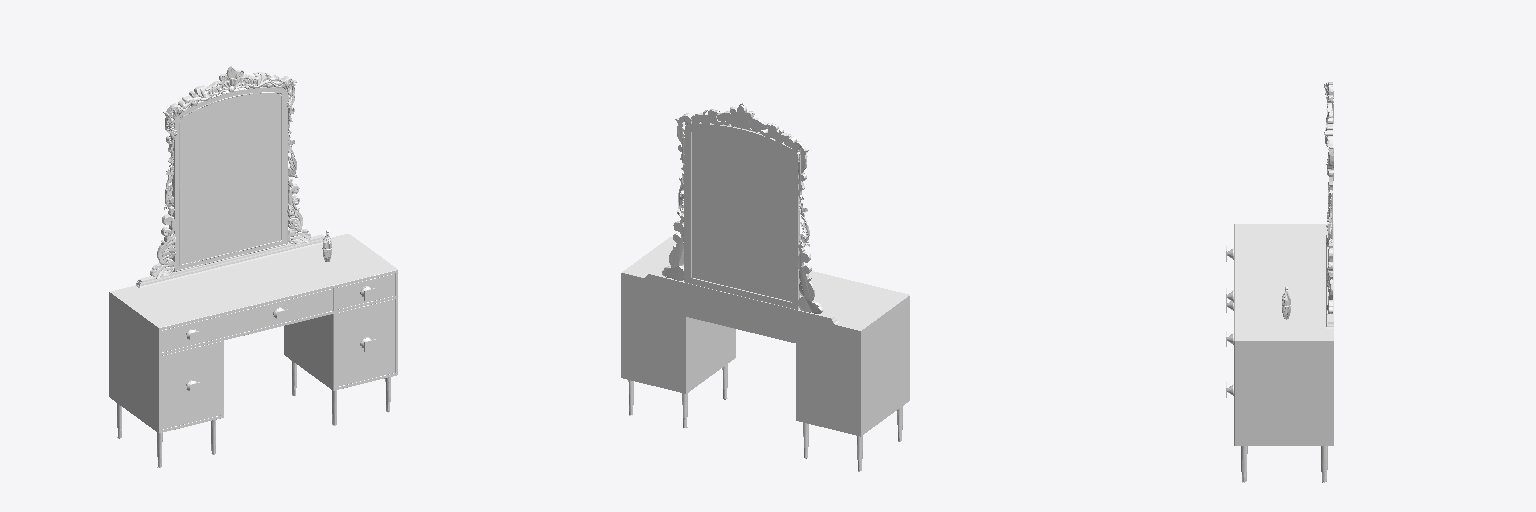
3 renders of one model, left to right at view 1: azimuth 30°, elevation 25°; view 2: azimuth 150°, elevation 25°; view 3: azimuth 270°, elevation 25°, orthographic.
Parts seen in each view (by area): view 1: solid_005, solid_003, solid_002, glass_001; view 2: solid_005, solid_003, solid_002, glass_001; view 3: solid_005, solid_002.
Part boxes in pixels (left/top/right/bottom): solid_005: left=109, top=234, right=397, bottom=432; solid_003: left=180, top=93, right=280, bottom=264; solid_002: left=117, top=66, right=390, bottom=468; glass_001: left=117, top=288, right=390, bottom=457; solid_005: left=621, top=237, right=909, bottom=436; solid_003: left=692, top=131, right=791, bottom=301; solid_002: left=629, top=103, right=901, bottom=471; glass_001: left=628, top=364, right=902, bottom=460; solid_005: left=1234, top=224, right=1333, bottom=445; solid_002: left=1227, top=82, right=1333, bottom=482.
Bounding box in the file's own units: 1.07 × 1.46 × 0.4191.